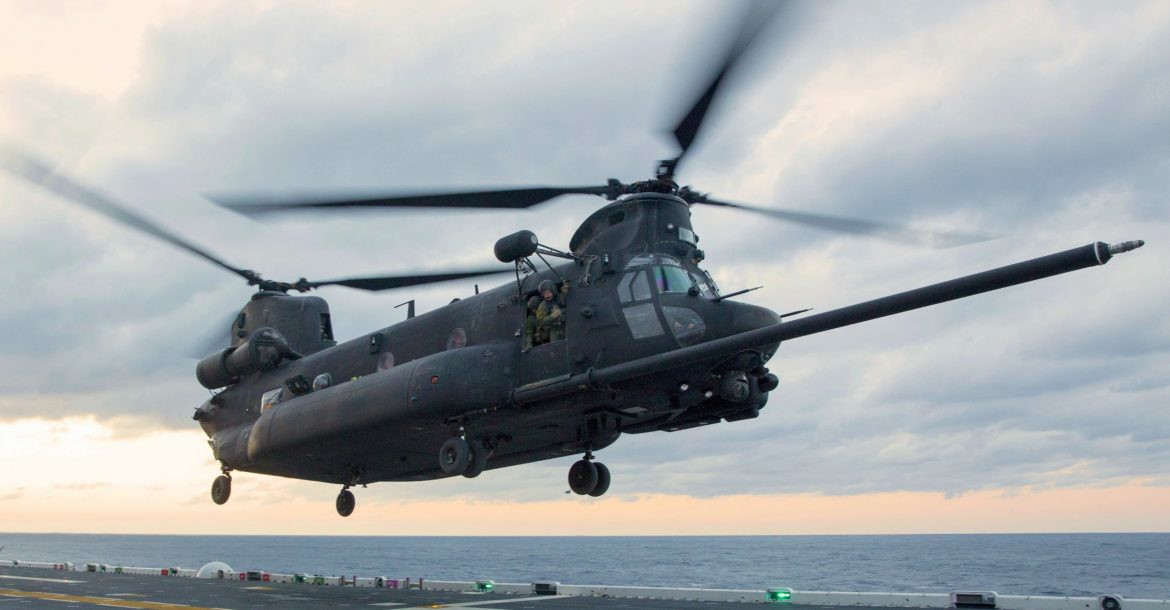chinook: (131, 179, 1145, 517)
